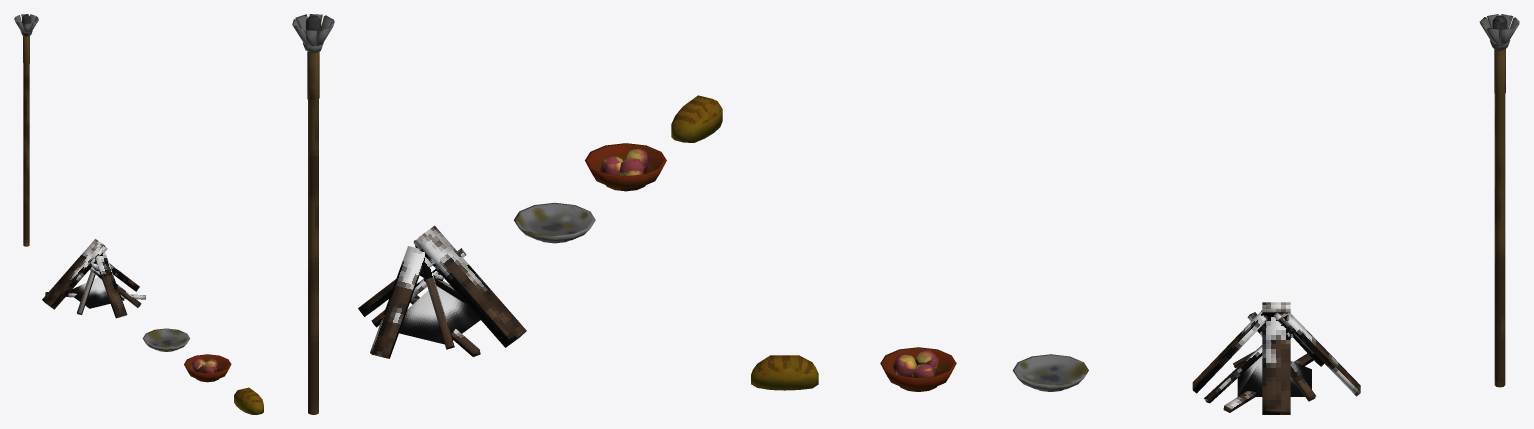
The model's file is dodatki.fbx.
3 renders of one model, left to right at view 1: azimuth 30°, elevation 25°; view 2: azimuth 150°, elevation 25°; view 3: azimuth 270°, elevation 25°, orthographic. The views are drawn at different scales.
Parts seen in each view (by area): view 1: opal, POCHODNIA, miska_pusta, miska_na_owoce, pył, chleb; view 2: opal, POCHODNIA, miska_pusta, pył, miska_na_owoce, chleb, owoc_1; view 3: opal, POCHODNIA, miska_pusta, chleb, miska_na_owoce, pył.
Part boxes in pixels (x1,y1,x2,y2): opal: (42, 239, 145, 318); POCHODNIA: (14, 14, 38, 246); miska_pusta: (142, 328, 189, 351); miska_na_owoce: (184, 354, 231, 382); pył: (70, 277, 124, 308); chleb: (234, 387, 263, 414); opal: (358, 225, 526, 358); POCHODNIA: (292, 14, 334, 414); miska_pusta: (514, 202, 595, 243); pył: (399, 286, 480, 344); miska_na_owoce: (585, 143, 666, 191); chleb: (671, 95, 722, 142); owoc_1: (619, 157, 644, 176); opal: (1192, 302, 1360, 414); POCHODNIA: (1479, 14, 1519, 387); miska_pusta: (1012, 354, 1088, 391); chleb: (751, 355, 818, 390); miska_na_owoce: (880, 347, 956, 391); pył: (1237, 356, 1311, 396).
Size of the model in its own units: 355 by 882 by 1650.
